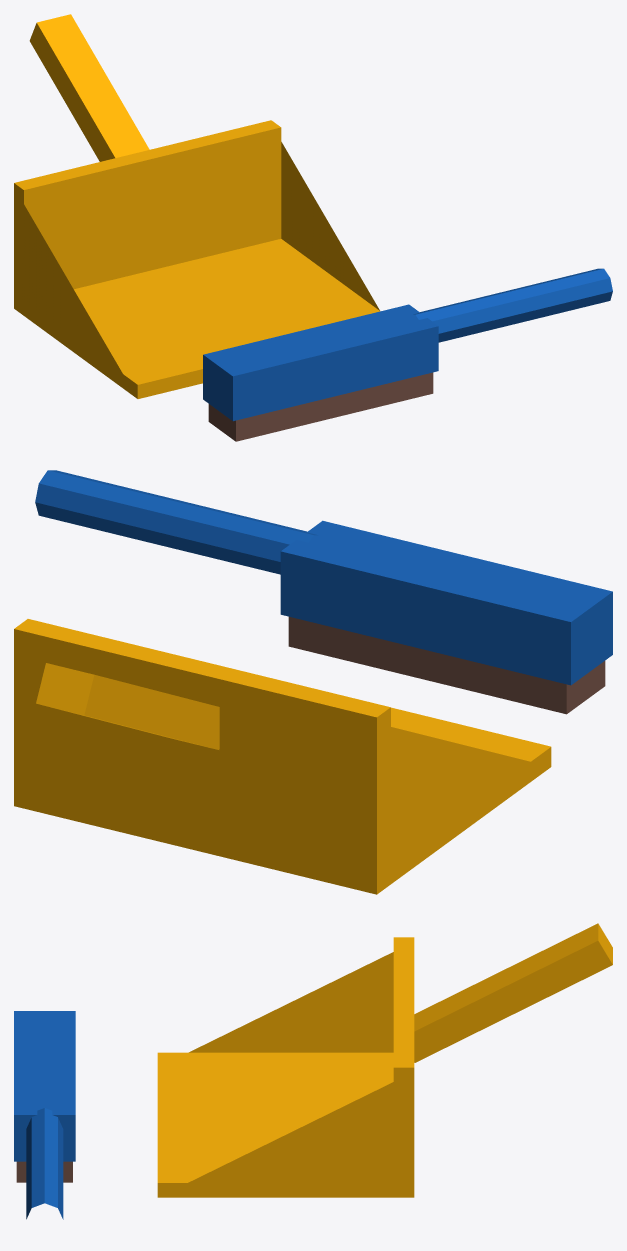
Rendered from sopskyffel.glb.
3 views of the same model, one above another, from view 1: azimuth 30°, elevation 25°; view 2: azimuth 150°, elevation 25°; view 3: azimuth 270°, elevation 25° (orthographic). The views are drawn at different scales.
Visible parts, largest first — view 1: sopskyffel; view 2: sopskyffel; view 3: sopskyffel.
Part boxes in pixels (x1,y1,x2,y2): sopskyffel: (14, 14, 612, 441); sopskyffel: (14, 470, 612, 894); sopskyffel: (14, 923, 612, 1219).
Size of the model in its own units: 0.48 by 0.2159 by 0.5837.
